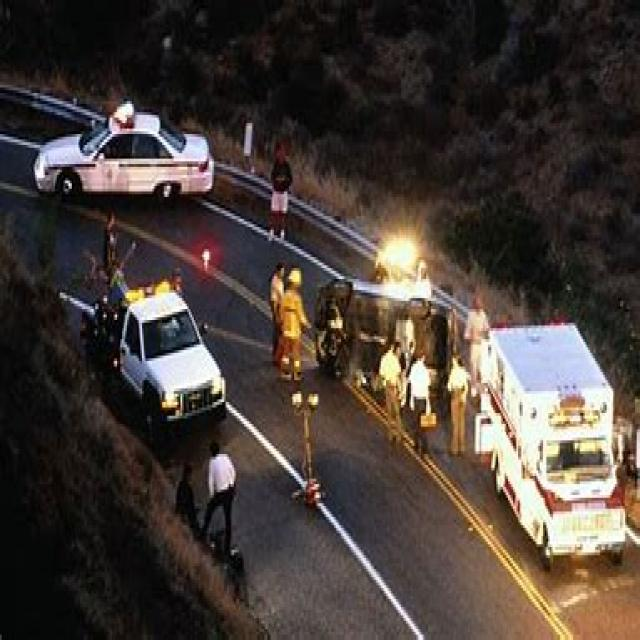Accident: (307, 228, 500, 486)
